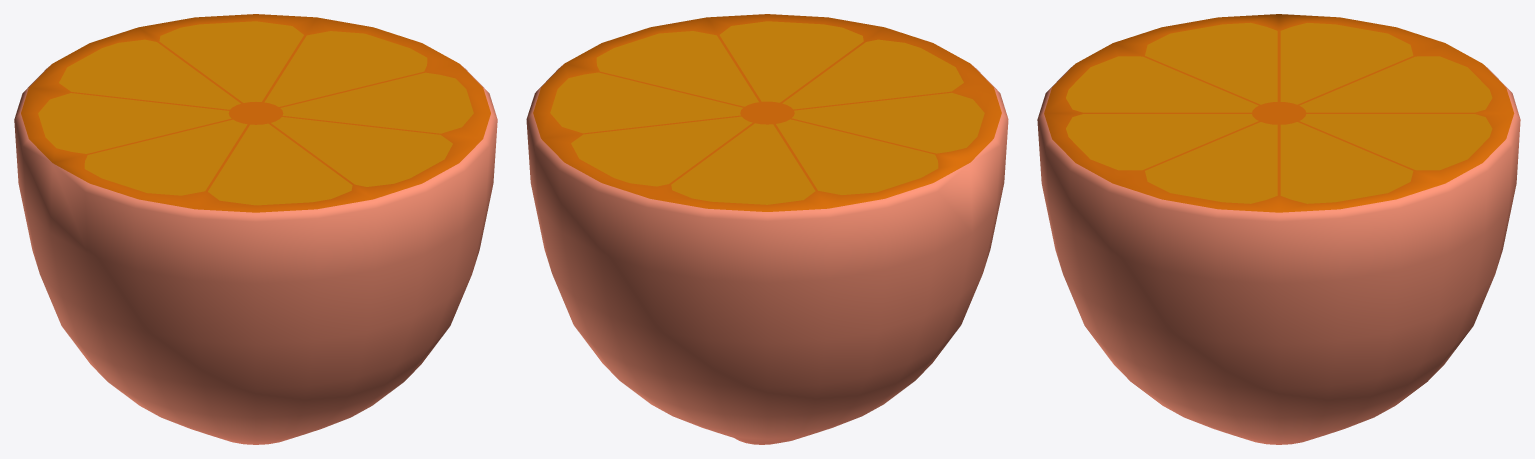
Rendered from Half_a_lemon.fbx.
3 renders of one model, left to right at view 1: azimuth 30°, elevation 25°; view 2: azimuth 150°, elevation 25°; view 3: azimuth 270°, elevation 25°, orthographic.
Parts seen in each view (by area): view 1: Half_a_lemon; view 2: Half_a_lemon; view 3: Half_a_lemon.
Boxes of the visible parts, x1,y1,x2,y2 form: Half_a_lemon: [14, 14, 497, 444]; Half_a_lemon: [526, 14, 1008, 444]; Half_a_lemon: [1037, 14, 1520, 444].
Bounding box in the file's own units: 95.57 × 71.09 × 96.36.
